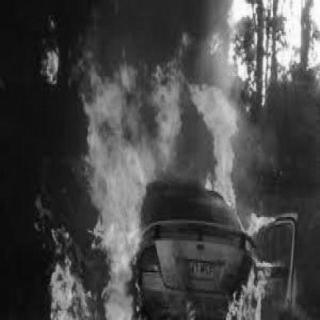Fire: (26, 32, 276, 316)
